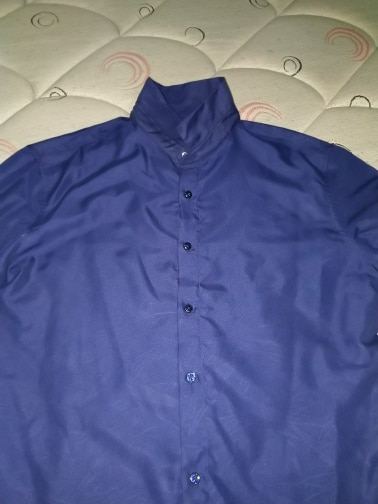shirts: (12, 81, 377, 504)
